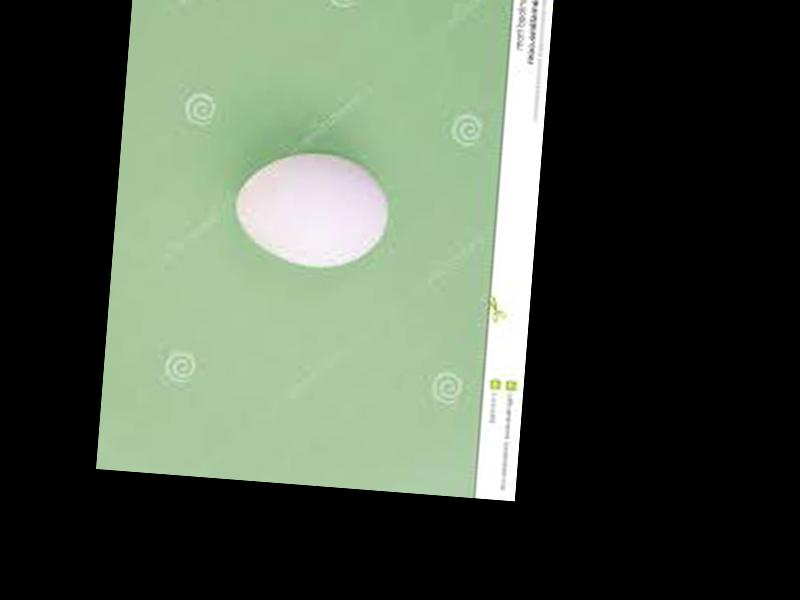Eggs: (233, 146, 391, 270)
